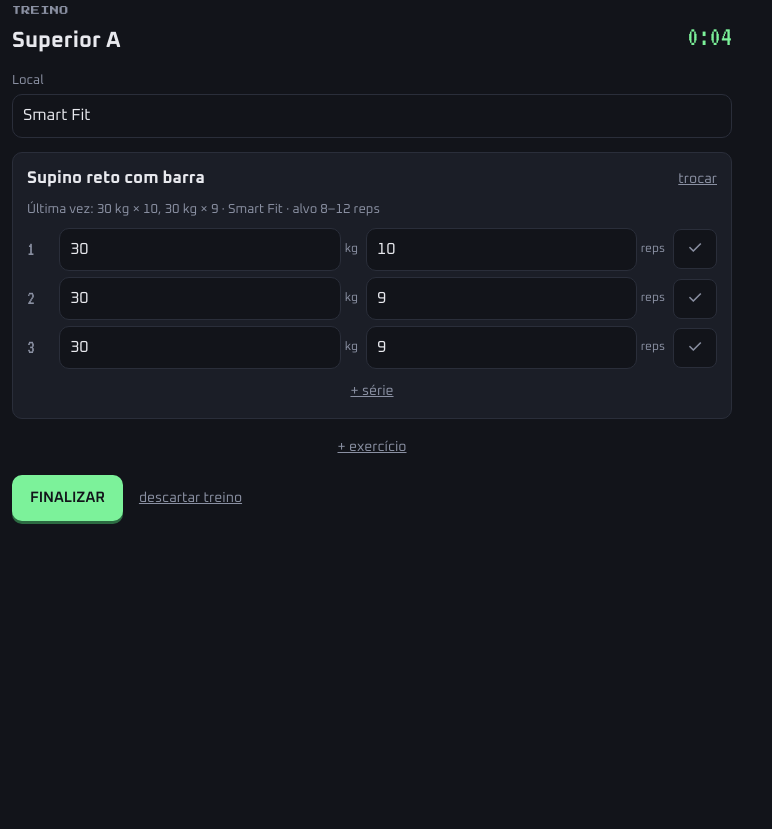
Test: SessaoTreino › marcar a série extra não cria mais uma linha
Click the button "+ série" at (372, 392), box top-left (27, 377), bottom-right (717, 406)
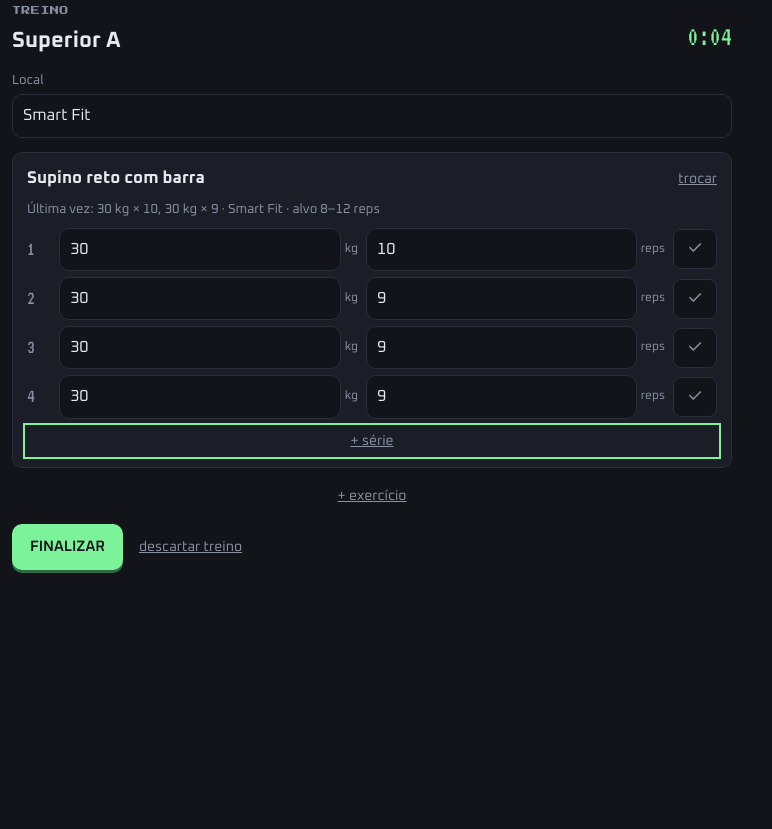
Click the button named "marcar série 4" at (695, 397), box top-left (673, 377), bottom-right (717, 417)
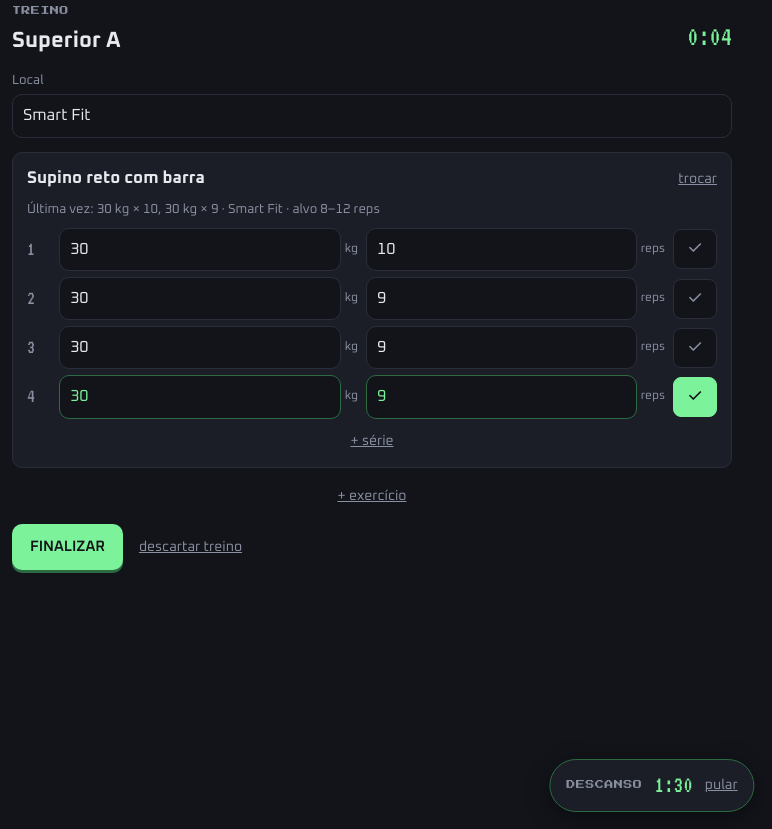
Expected: the number of fields named "carga" is 4, top-left (59, 228), bottom-right (341, 271); top-left (59, 277), bottom-right (341, 320); top-left (59, 326), bottom-right (341, 369); top-left (59, 375), bottom-right (341, 419)
Expected: the button named "desmarcar série 4" is shown, top-left (673, 377), bottom-right (717, 417)
